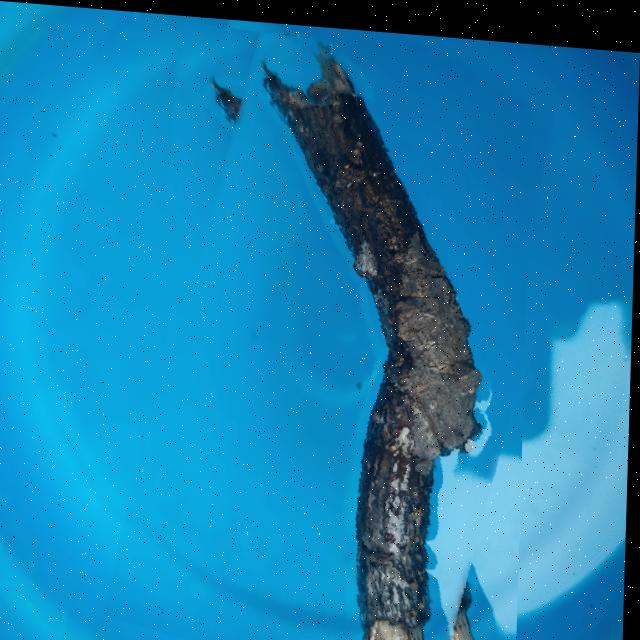litter: (132, 15, 534, 640)
